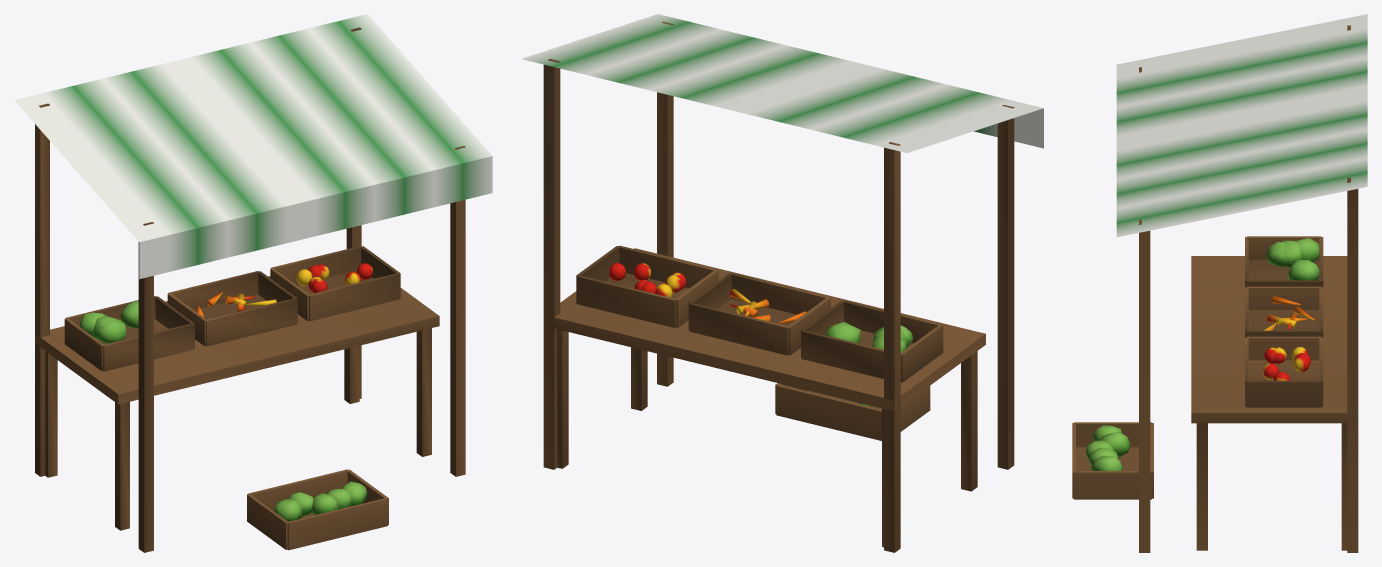
Rendered from MarketStall.glb.
3 views of the same model, side by side, from view 1: azimuth 30°, elevation 25°; view 2: azimuth 150°, elevation 25°; view 3: azimuth 270°, elevation 25° (orthographic). The views are drawn at different scales.
Parts seen in each view (by area): view 1: StallAwning, StallWood, StallLettuce, StallVeg; view 2: StallWood, StallAwning, StallVeg, StallLettuce; view 3: StallAwning, StallWood, StallLettuce, StallVeg.
Boxes of the visible parts, x1=… form: StallAwning: x1=14, y1=14, x2=492, y2=279; StallWood: x1=35, y1=27, x2=465, y2=552; StallLettuce: x1=79, y1=300, x2=367, y2=521; StallVeg: x1=197, y1=263, x2=372, y2=317; StallWood: x1=543, y1=21, x2=1014, y2=552; StallAwning: x1=522, y1=14, x2=1043, y2=152; StallVeg: x1=608, y1=263, x2=806, y2=323; StallLettuce: x1=825, y1=321, x2=912, y2=406; StallAwning: x1=1116, y1=14, x2=1367, y2=237; StallWood: x1=1072, y1=25, x2=1358, y2=552; StallLettuce: x1=1085, y1=238, x2=1319, y2=470; StallVeg: x1=1263, y1=296, x2=1314, y2=380.
Bounding box in the file's own units: 2.2 × 2.22 × 1.59.
